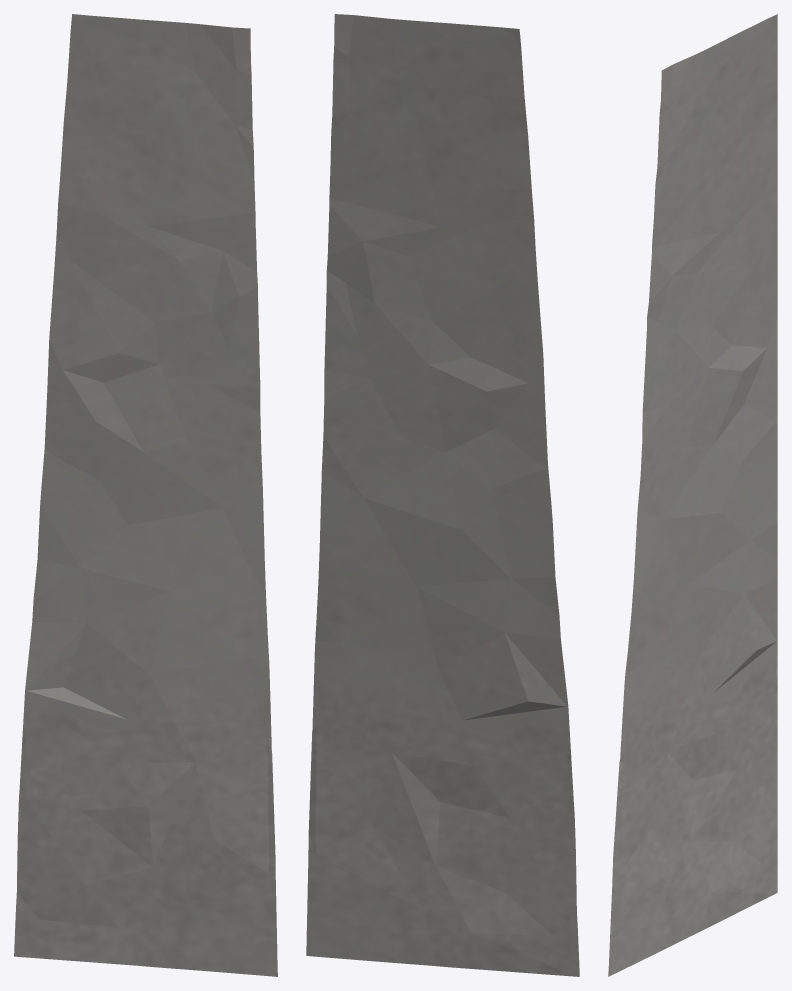
3 views of the same model, side by side, from view 1: azimuth 30°, elevation 25°; view 2: azimuth 210°, elevation 25°; view 3: azimuth 270°, elevation 25° (orthographic). The views are drawn at different scales.
Size of the model in its own units: 0.1671 by 0.8373 by 0.142.
1 material, 1 textured.
